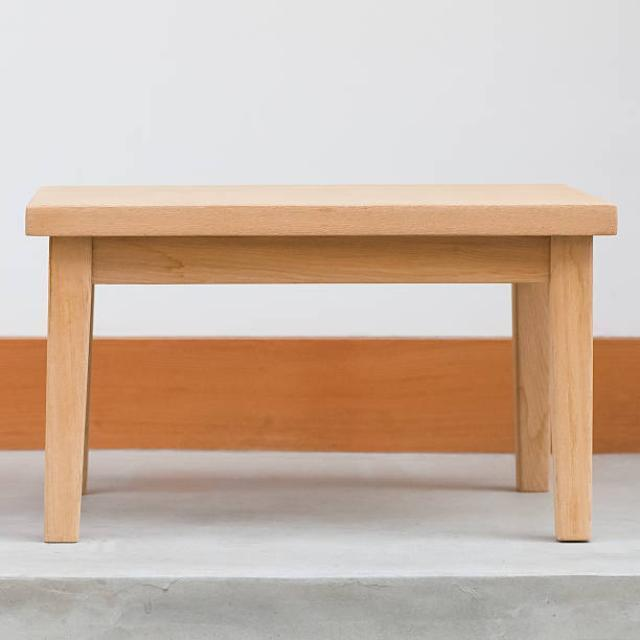table: (24, 182, 618, 545)
